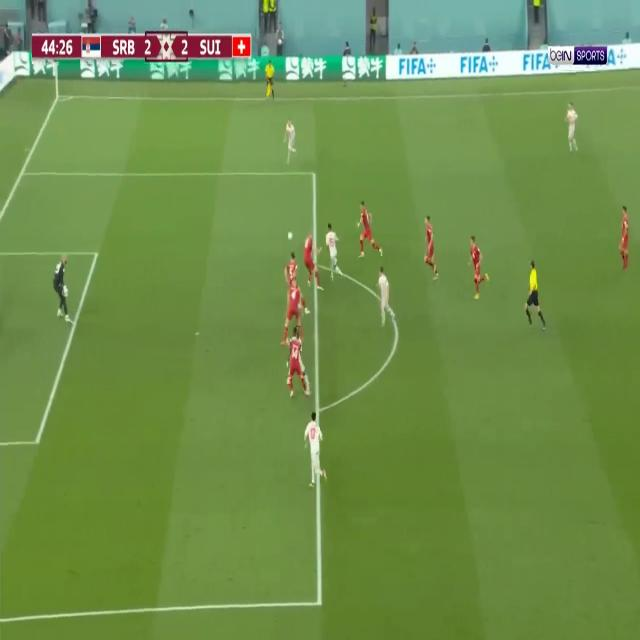ball: (288, 231, 293, 241)
team1: (354, 200, 384, 261), (468, 235, 490, 299), (280, 284, 300, 346), (304, 232, 324, 292), (289, 334, 306, 399), (424, 214, 438, 282), (619, 205, 630, 270), (284, 251, 298, 283)
team2: (304, 412, 328, 488), (377, 266, 395, 329), (324, 222, 340, 282), (564, 101, 578, 154), (283, 117, 297, 167)
